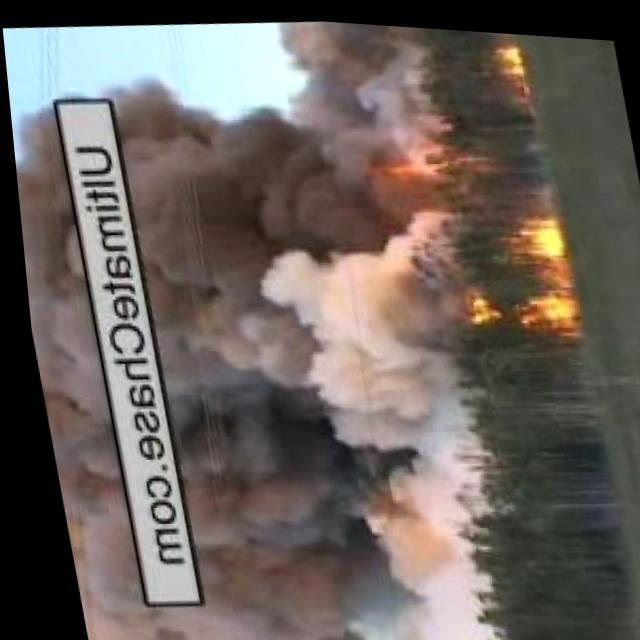fire: (452, 200, 578, 338), (374, 138, 478, 186), (490, 34, 526, 86)
